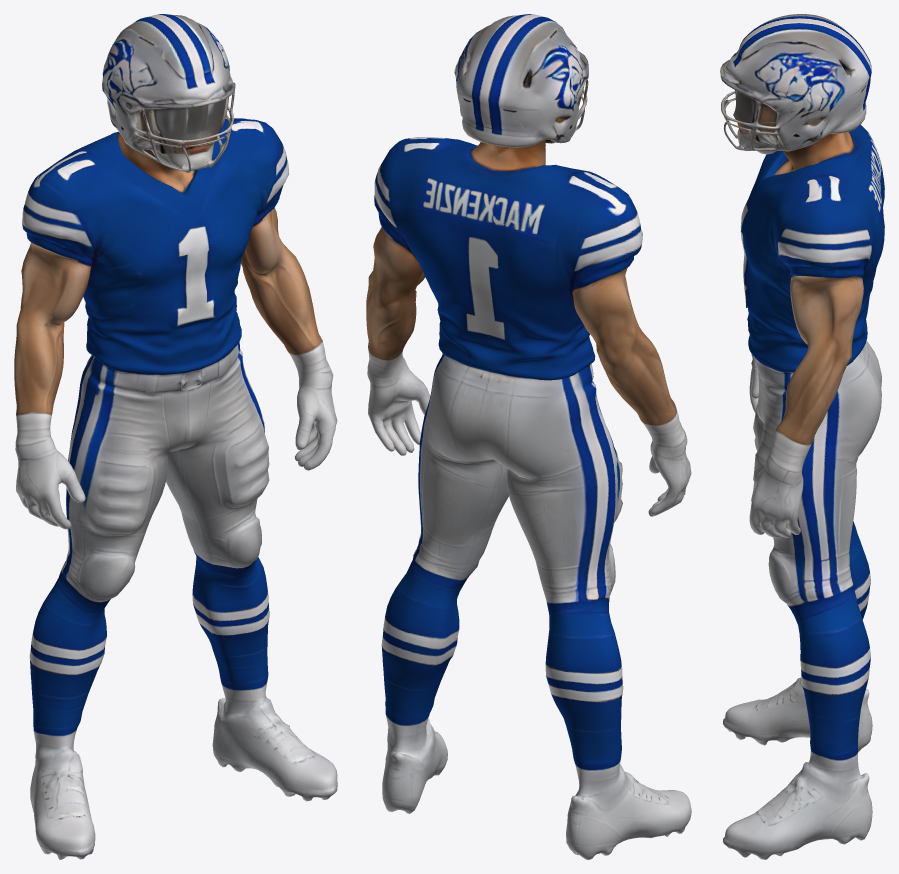
File: player-goat.glb
3 views of the same model, side by side, from view 1: azimuth 30°, elevation 25°; view 2: azimuth 150°, elevation 25°; view 3: azimuth 270°, elevation 25° (orthographic). The views are drawn at different scales.
Parts seen in each view (by area): view 1: model; view 2: model; view 3: model.
Boxes of the visible parts, x1,y1,x2,y2 form: model: (14, 14, 337, 859); model: (366, 14, 691, 859); model: (720, 14, 884, 859).
Bounding box in the file's own units: 0.7882 × 1.89 × 0.3645.
1 material, 1 textured.
